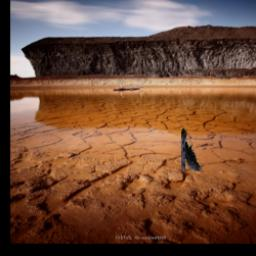Crow: (180, 129, 202, 172)
